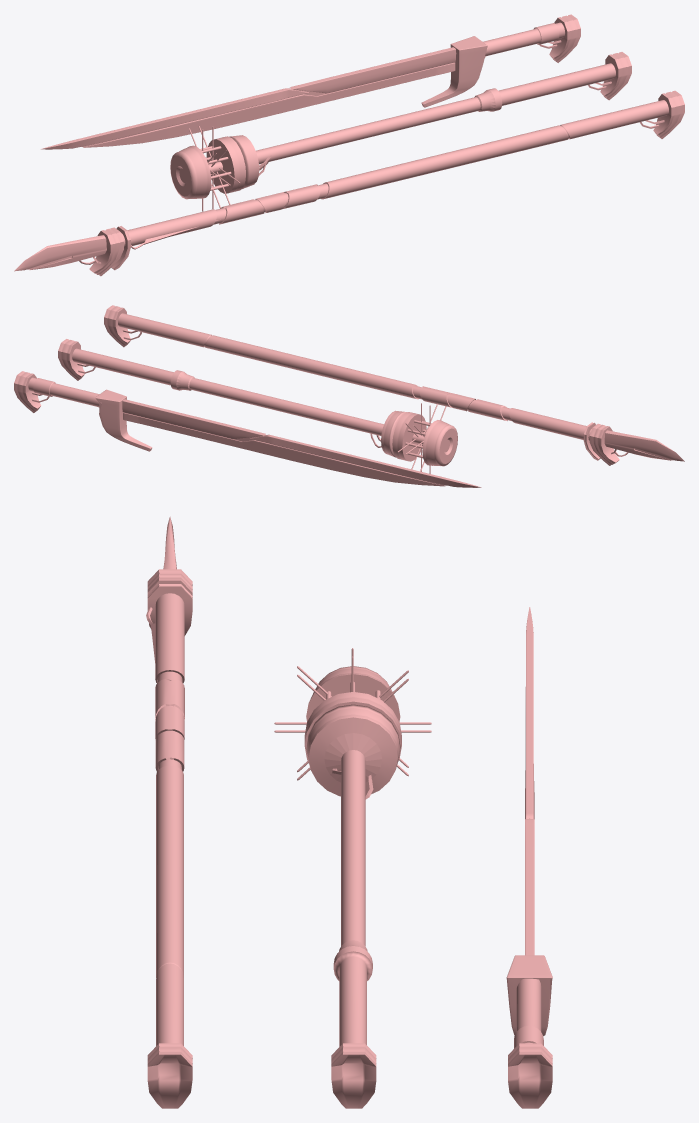
Rendered from Red Swords Long.FBX.
The picture shows the model from 3 angles, top to bottom: view 1: azimuth 30°, elevation 25°; view 2: azimuth 150°, elevation 25°; view 3: azimuth 270°, elevation 25°; orthographic projection. The views are drawn at different scales.
Parts seen in each view (by area): view 1: Spear, Sword, Mace; view 2: Spear, Sword, Mace; view 3: Mace, Spear, Sword.
Part boxes in pixels (x1,y1,x2,y2): Spear: [14, 90, 684, 276]; Sword: [40, 14, 580, 149]; Mace: [170, 52, 631, 211]; Spear: [104, 305, 684, 465]; Sword: [14, 371, 481, 487]; Mace: [58, 339, 457, 473]; Mace: [274, 648, 431, 1108]; Spear: [146, 516, 192, 1108]; Sword: [506, 607, 552, 1108].
Size of the model in its own units: 13.13 by 1.56 by 4.02.
Materials: 1 (1 with a texture image).
